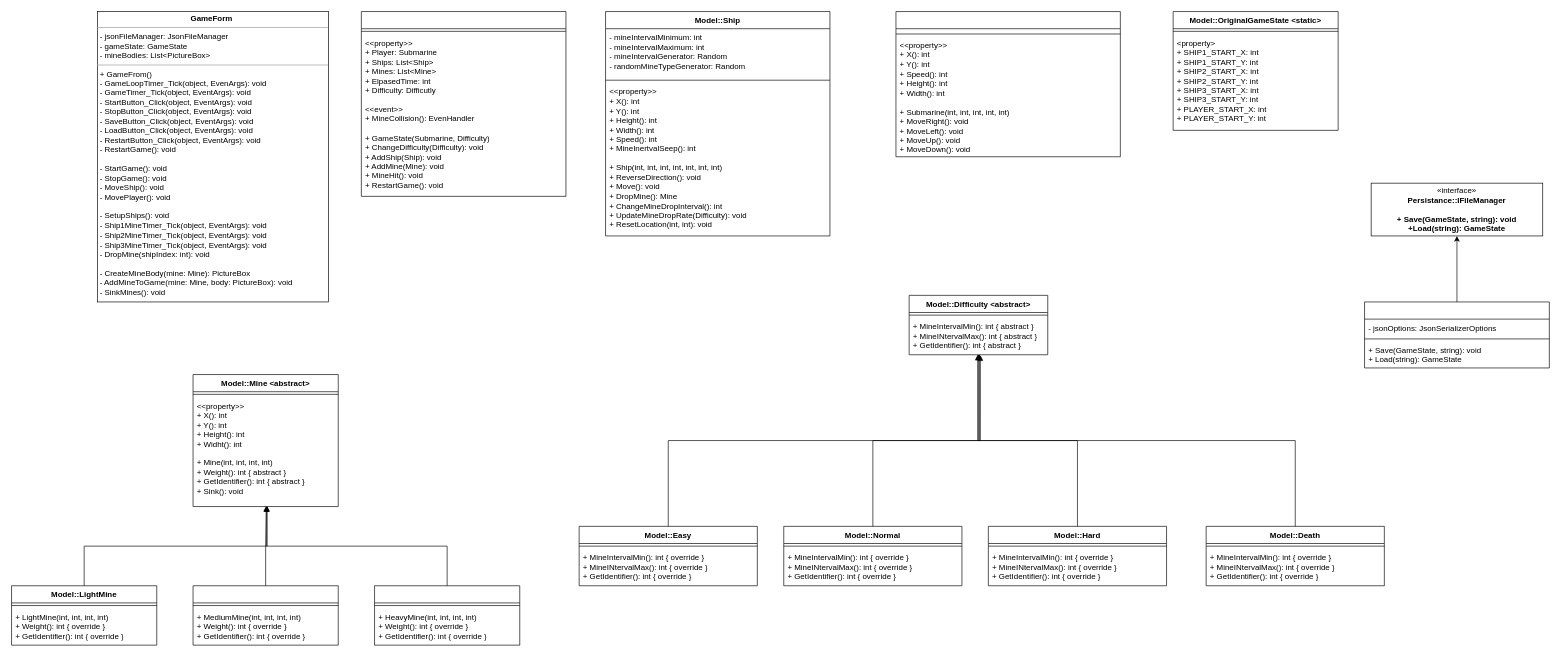
The diagram is 1561 pixels wide and 659 high, and some of its shapes have lost their labels. The shapes that lost their labels are listed below. From the top down, each one's box as (x1, y1, x2, y2) in pixels, then its label:
(361, 11, 566, 196): Model::GameState
(895, 11, 1120, 157): Model::Submarine
(1364, 301, 1549, 368): Persistance::JsonFileManager
(192, 585, 338, 645): Model::MediumMine
(374, 585, 520, 645): Model::HeavyMine
